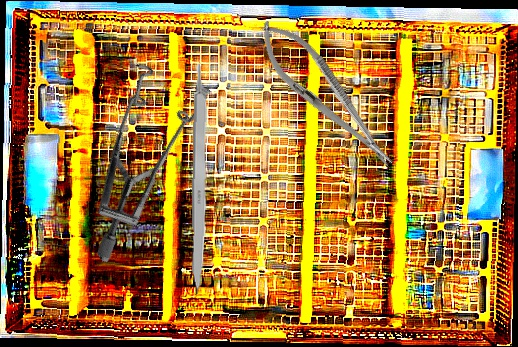Needle Holder: (244, 8, 408, 182)
Scalpel Handle: (190, 60, 211, 298)
Speculum: (21, 38, 257, 265)
